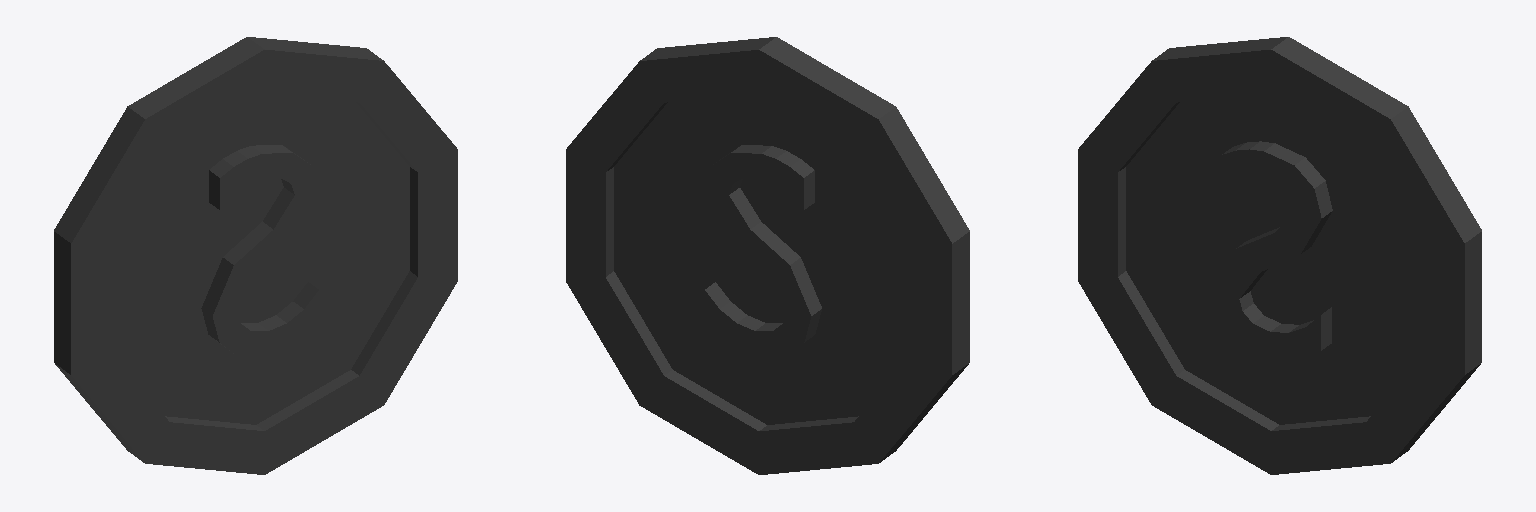
Rendered from SilverCoin.obj.
3 renders of one model, left to right at view 1: azimuth 30°, elevation 25°; view 2: azimuth 150°, elevation 25°; view 3: azimuth 330°, elevation 25°, orthographic.
Visible parts, largest first — view 1: SilverCoin_Circle.002; view 2: SilverCoin_Circle.002; view 3: SilverCoin_Circle.002.
Boxes of the visible parts, x1=… form: SilverCoin_Circle.002: x1=54, y1=37, x2=457, y2=474; SilverCoin_Circle.002: x1=566, y1=37, x2=969, y2=474; SilverCoin_Circle.002: x1=1078, y1=37, x2=1481, y2=474.
Size of the model in its own units: 6.37 by 6.7 by 0.6442.